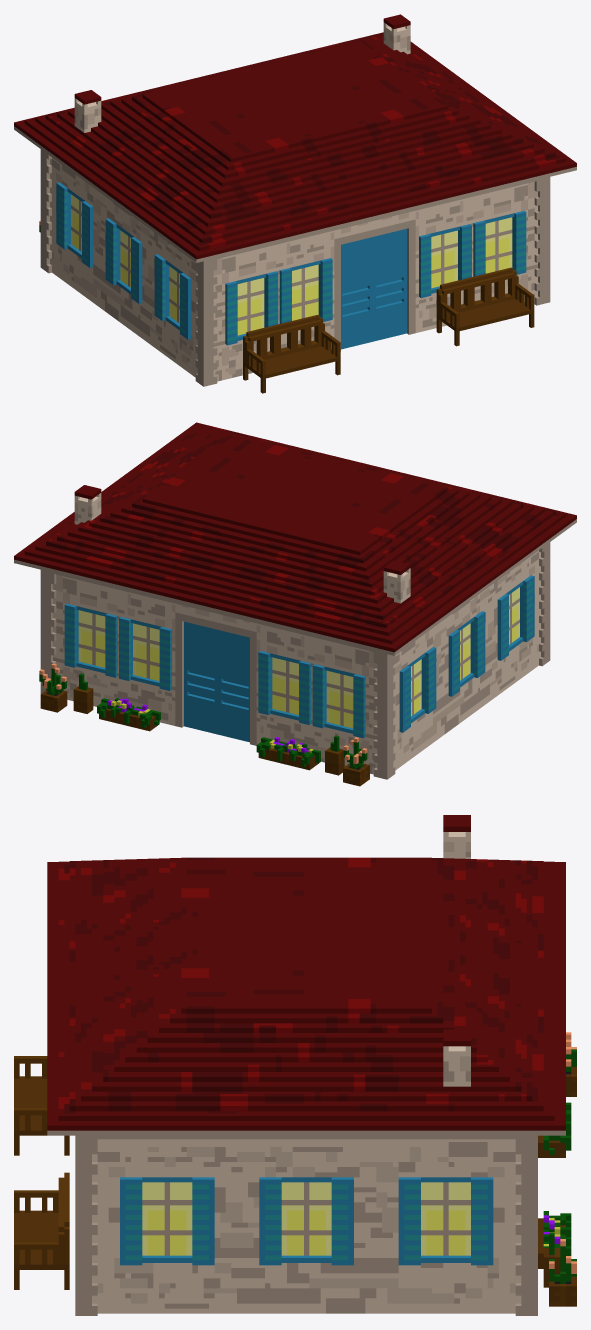
The picture shows the model from 3 angles, top to bottom: view 1: azimuth 30°, elevation 25°; view 2: azimuth 150°, elevation 25°; view 3: azimuth 270°, elevation 25°; orthographic projection. The views are drawn at different scales.
Visible parts, largest first — view 1: VOX; view 2: VOX; view 3: VOX.
Boxes of the visible parts, x1,y1,x2,y2 form: VOX: (14,14,576,393); VOX: (14,422,576,786); VOX: (14,815,576,1315).
Size of the model in its own units: 0.112 by 0.053 by 0.101.
